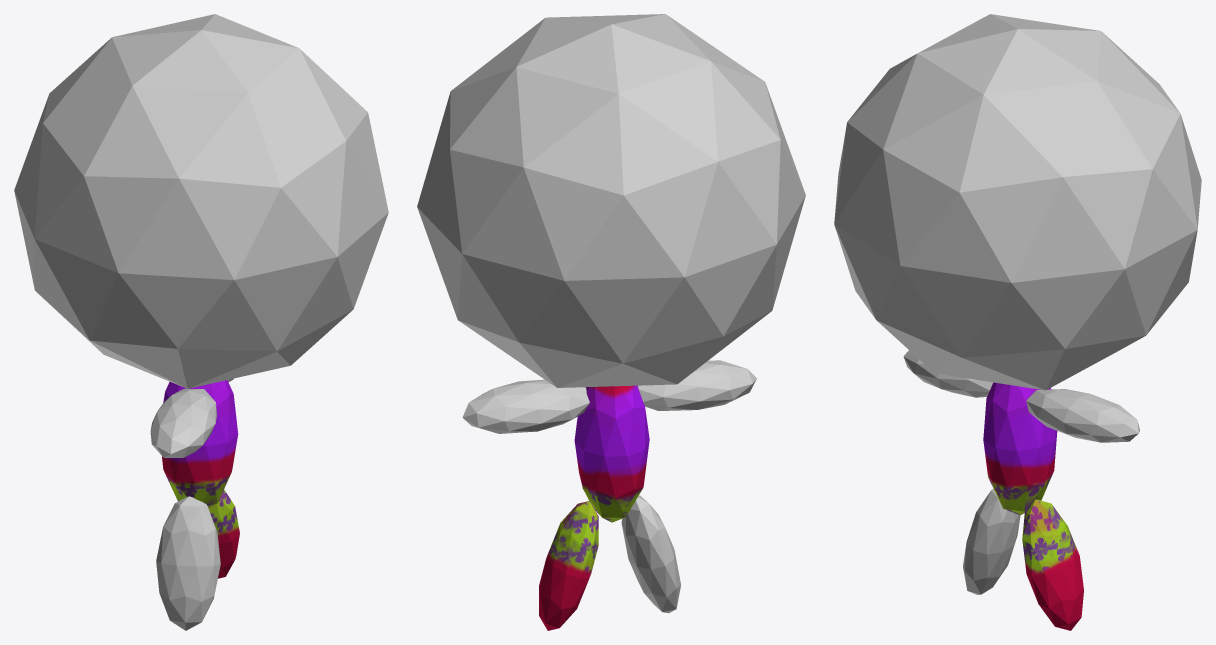
File: bro.fbx
The picture shows the model from 3 angles, left to right: view 1: azimuth 30°, elevation 25°; view 2: azimuth 150°, elevation 25°; view 3: azimuth 270°, elevation 25°; orthographic projection. The views are drawn at different scales.
Visible parts, largest first — view 1: Icosphere.005, Icosphere.001, Icosphere, Icosphere.003, Icosphere.004; view 2: Icosphere.005, Icosphere, Icosphere.004, Icosphere.002, Icosphere.001, Icosphere.003; view 3: Icosphere.005, Icosphere, Icosphere.004, Icosphere.002, Icosphere.001, Icosphere.003.
Boxes of the visible parts, left/top/right/bottom form: Icosphere.005: left=14, top=14, right=388, bottom=388; Icosphere.001: left=156, top=496, right=220, bottom=630; Icosphere: left=162, top=380, right=238, bottom=507; Icosphere.003: left=150, top=388, right=216, bottom=457; Icosphere.004: left=208, top=489, right=239, bottom=578; Icosphere.005: left=417, top=14, right=805, bottom=387; Icosphere: left=574, top=385, right=649, bottom=522; Icosphere.004: left=539, top=501, right=598, bottom=630; Icosphere.002: left=462, top=379, right=589, bottom=433; Icosphere.001: left=621, top=495, right=680, bottom=613; Icosphere.003: left=638, top=360, right=756, bottom=410; Icosphere.005: left=834, top=14, right=1201, bottom=390; Icosphere: left=983, top=382, right=1057, bottom=515; Icosphere.004: left=1022, top=499, right=1083, bottom=630; Icosphere.002: left=1026, top=389, right=1139, bottom=442; Icosphere.001: left=963, top=489, right=1020, bottom=594; Icosphere.003: left=903, top=350, right=993, bottom=397.
Bounding box in the file's own units: 200 × 337 × 192.
